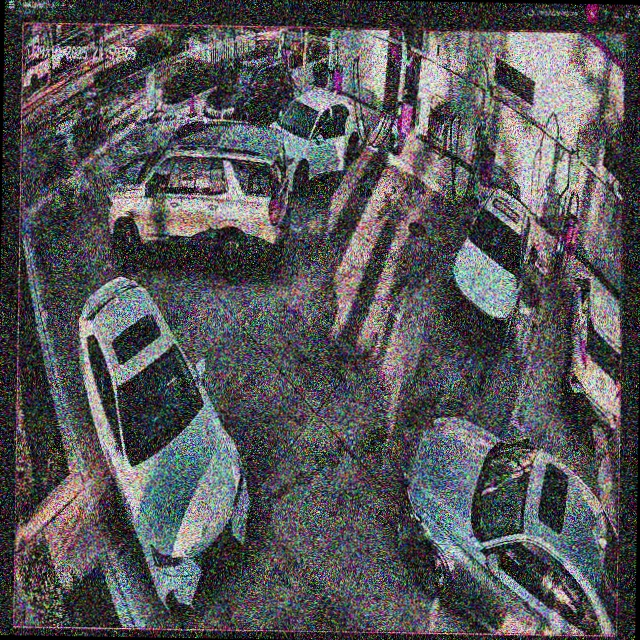Car: (73, 277, 255, 618), (398, 414, 621, 639), (109, 120, 292, 282), (450, 187, 533, 348), (271, 88, 367, 193)
